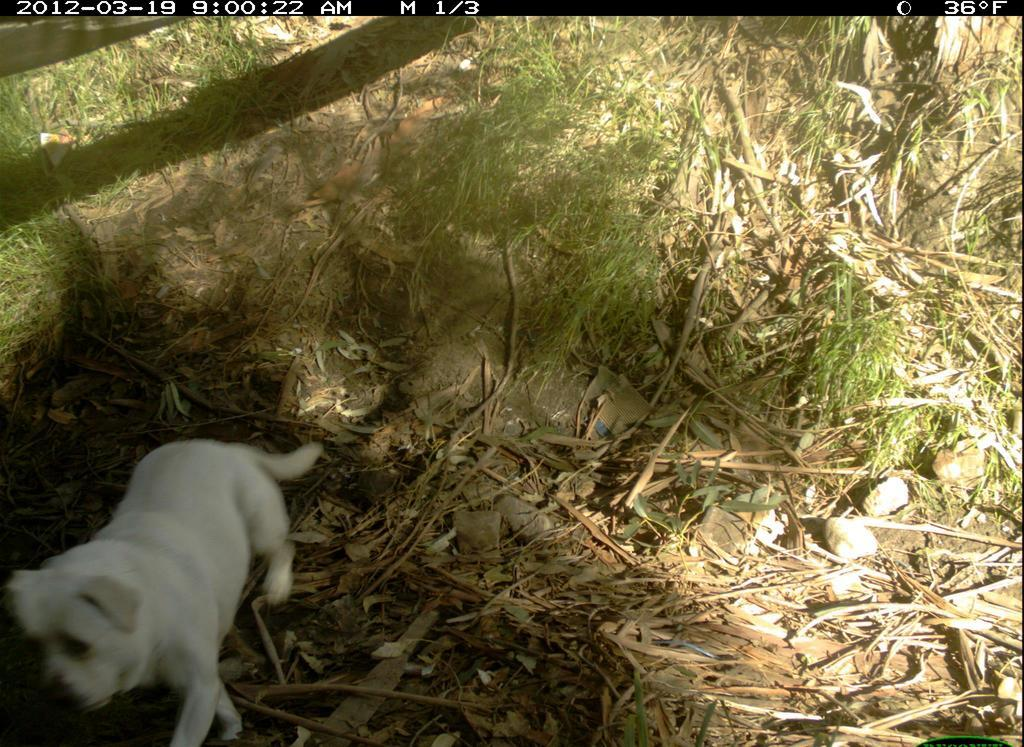dog: (8, 432, 329, 747)
